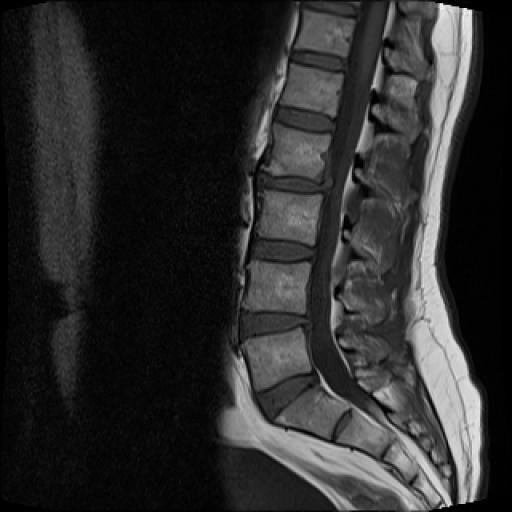L1: (280, 63, 343, 116)
L2: (264, 123, 331, 182)
L3: (258, 190, 323, 244)
L4: (242, 260, 311, 315)
L5: (241, 325, 311, 392)
S1: (275, 383, 349, 440)
